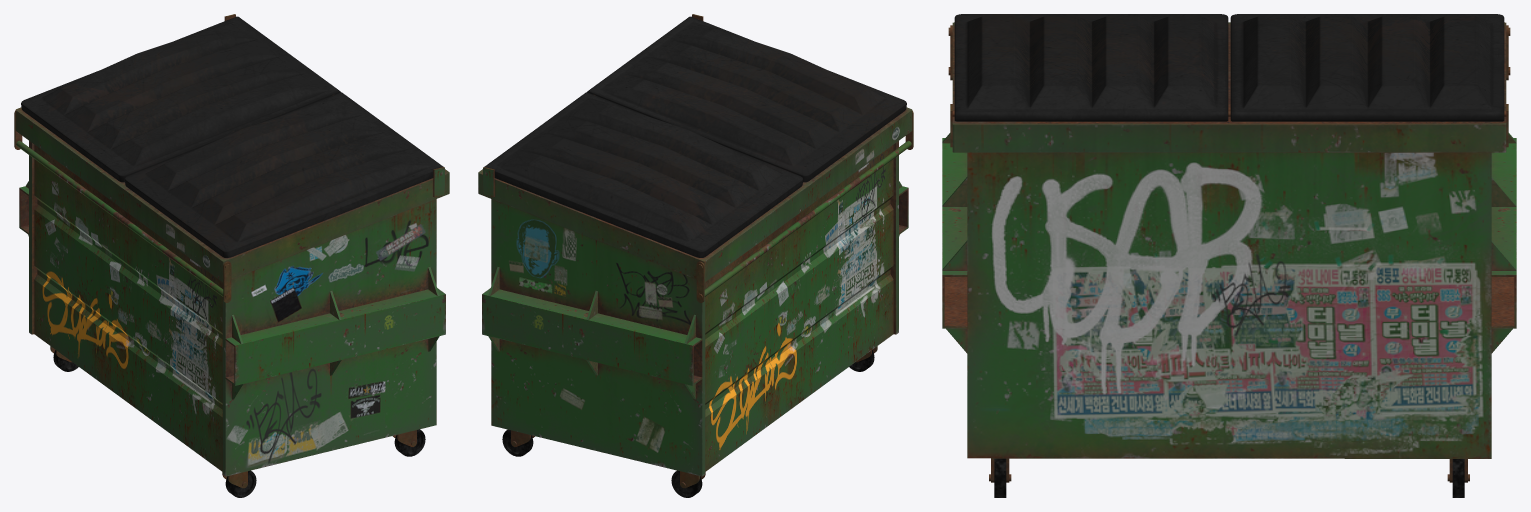
Rendered from low_poly_-_dumpster.glb.
3 renders of one model, left to right at view 1: azimuth 30°, elevation 25°; view 2: azimuth 150°, elevation 25°; view 3: azimuth 270°, elevation 25°, orthographic. The views are drawn at different scales.
Visible parts, largest first — view 1: BIN, LIDS, WHEELS; view 2: BIN, LIDS, WHEELS; view 3: BIN, LIDS, WHEELS.
Part boxes in pixels (bbox=[...]): BIN: bbox=[14, 14, 449, 476]; LIDS: bbox=[21, 16, 443, 257]; WHEELS: bbox=[50, 346, 425, 497]; BIN: bbox=[478, 14, 913, 476]; LIDS: bbox=[484, 16, 906, 257]; WHEELS: bbox=[502, 346, 877, 497]; BIN: bbox=[942, 22, 1516, 458]; LIDS: bbox=[954, 14, 1504, 121]; WHEELS: bbox=[989, 458, 1469, 497].
Size of the model in its own units: 1.2 by 1.51 by 1.97.
Materials: 1 (1 with a texture image).
